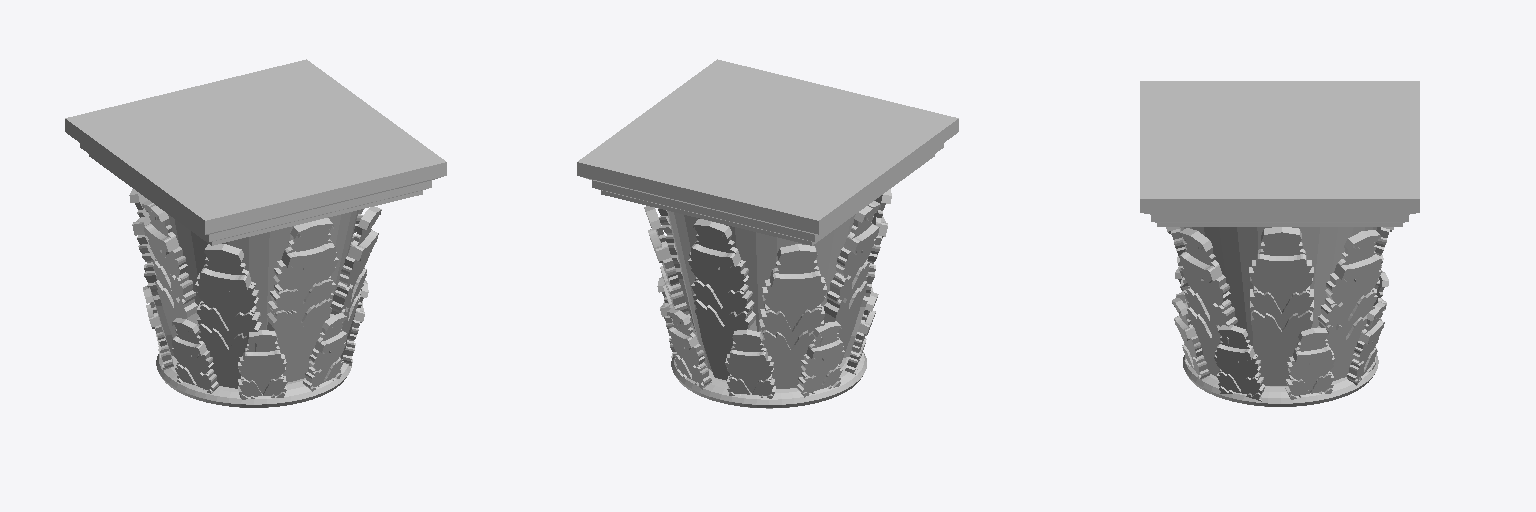
The model's file is corinthianCapital.obj.
3 views of the same model, side by side, from view 1: azimuth 30°, elevation 25°; view 2: azimuth 150°, elevation 25°; view 3: azimuth 270°, elevation 25° (orthographic).
Parts seen in each view (by area): view 1: Cube, Cube.085_Cube.134, Cube.167_Cube.216, Cylinder_Cylinder.002, Cube.131_Cube.180, Cube.160_Cube.209, Torus.001, Cube.079_Cube.128, Cube.169_Cube.218, Cube.081_Cube.130, Cube.096_Cube.145, Cube.122_Cube.171 (+1 smaller); view 2: Cube, Cube.096_Cube.145, Cube.123_Cube.172, Cylinder_Cylinder.002, Cube.131_Cube.180, Torus.001, Cube.102_Cube.151, Cube.122_Cube.171, Cube.034_Cube.039, Cube.006_Cube.011, Cube.167_Cube.216, Cube.169_Cube.218 (+1 smaller); view 3: Cube, Cube.037_Cube.042, Cylinder_Cylinder.002, Cube.006_Cube.011, Cube.079_Cube.128, Cube.072_Cube.121, Cube.013_Cube.018, Torus.001, Cube.034_Cube.039, Cube.081_Cube.130.
Boxes of the visible parts, <box> form: Cube: <box>65,59,446,245</box>; Cube.085_Cube.134: <box>267,218,338,382</box>; Cube.167_Cube.216: <box>195,244,261,388</box>; Cylinder_Cylinder.002: <box>168,210,358,329</box>; Cube.131_Cube.180: <box>142,200,199,337</box>; Cube.160_Cube.209: <box>238,330,286,399</box>; Torus.001: <box>156,354,351,407</box>; Cube.079_Cube.128: <box>329,206,381,356</box>; Cube.169_Cube.218: <box>172,318,218,393</box>; Cube.081_Cube.130: <box>303,313,346,391</box>; Cube.096_Cube.145: <box>129,189,173,355</box>; Cube.122_Cube.171: <box>143,286,173,370</box>; Cube: <box>577,59,958,245</box>; Cube.096_Cube.145: <box>759,244,826,388</box>; Cube.123_Cube.172: <box>688,219,756,380</box>; Cylinder_Cylinder.002: <box>667,200,874,370</box>; Cube.131_Cube.180: <box>823,201,880,364</box>; Torus.001: <box>671,352,866,408</box>; Cube.102_Cube.151: <box>725,329,775,398</box>; Cube.122_Cube.171: <box>797,321,844,397</box>; Cube.034_Cube.039: <box>667,308,711,389</box>; Cube.006_Cube.011: <box>644,206,706,367</box>; Cube.167_Cube.216: <box>843,189,891,357</box>; Cube.169_Cube.218: <box>845,292,878,374</box>; Cube: <box>1140,81,1419,226</box>; Cube.037_Cube.042: <box>1249,227,1313,385</box>; Cylinder_Cylinder.002: <box>1180,227,1376,345</box>; Cube.006_Cube.011: <box>1317,230,1381,380</box>; Cube.079_Cube.128: <box>1179,228,1237,376</box>; Cube.072_Cube.121: <box>1214,325,1264,401</box>; Cube.013_Cube.018: <box>1285,328,1334,399</box>; Torus.001: <box>1183,354,1378,406</box>; Cube.034_Cube.039: <box>1347,302,1385,385</box>; Cube.081_Cube.130: <box>1172,298,1209,380</box>.
Bounding box in the file's own units: 2.68 × 2.46 × 2.69.